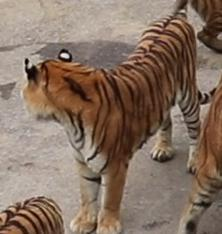tiger: (23, 0, 221, 233)
